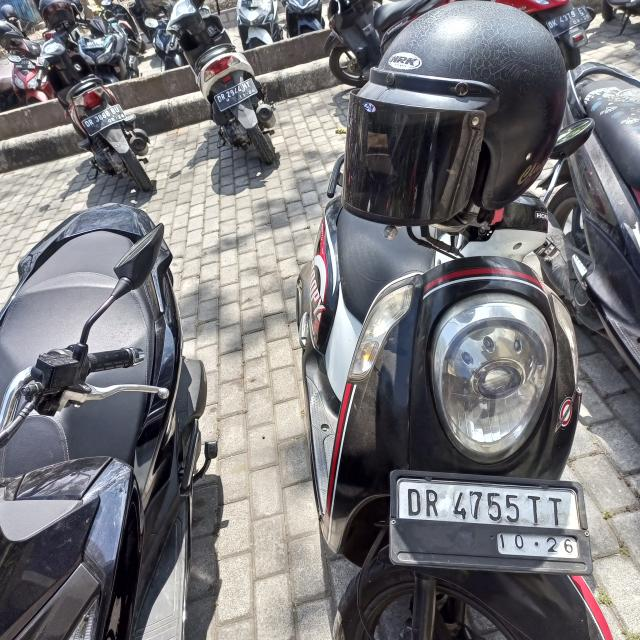plate: (393, 473, 590, 562), (213, 76, 260, 113), (546, 3, 593, 39), (82, 102, 127, 137)
